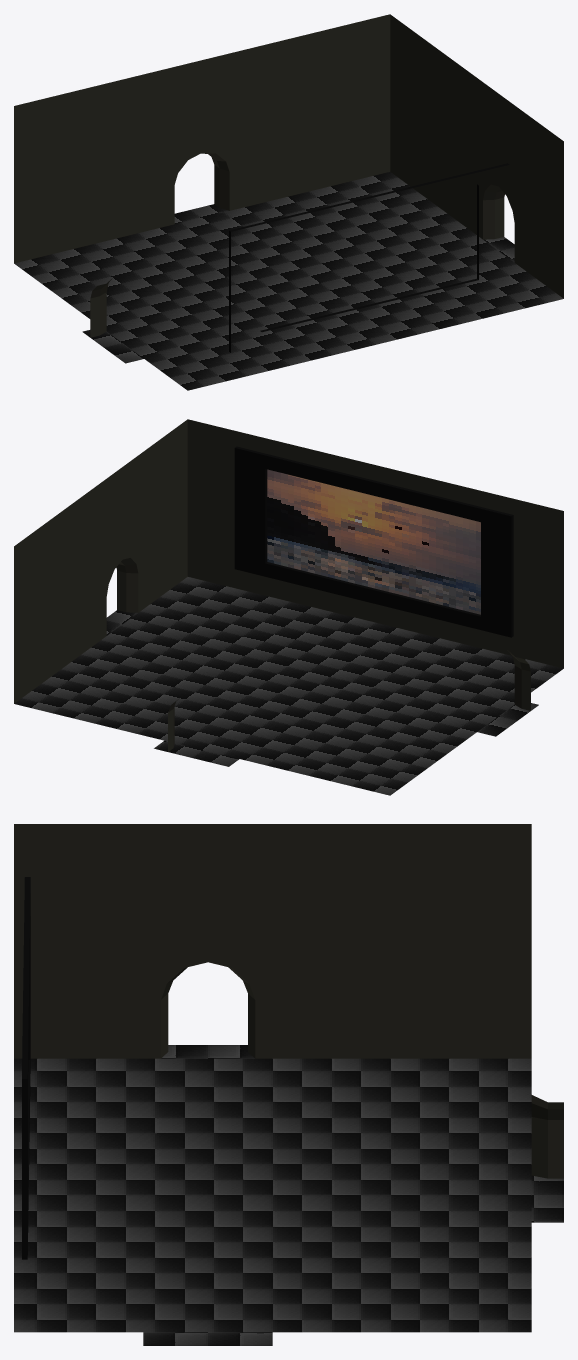
The model's file is Room5.glb.
3 renders of one model, top to bottom at view 1: azimuth 30°, elevation 25°; view 2: azimuth 150°, elevation 25°; view 3: azimuth 270°, elevation 25°, orthographic. The views are drawn at different scales.
Parts seen in each view (by area): view 1: Floor, Wall4, Wall2, Frame.003, Wall3; view 2: Floor, Wall2, Wall1, Canvas, Frame.003, Wall3; view 3: Floor, Wall3, Frame.003, Wall4.
Part boxes in pixels (<box>): Floor: <box>14,172,563,390</box>; Wall4: <box>14,14,390,263</box>; Wall2: <box>390,14,563,298</box>; Frame.003: <box>229,163,509,352</box>; Wall3: <box>90,277,113,337</box>; Floor: <box>14,577,563,795</box>; Wall2: <box>14,419,187,703</box>; Wall1: <box>187,419,563,668</box>; Canvas: <box>267,469,480,614</box>; Frame.003: <box>234,446,513,637</box>; Wall3: <box>507,650,530,710</box>; Floor: <box>14,1045,563,1345</box>; Wall3: <box>14,824,531,1058</box>; Frame.003: <box>22,877,30,1259</box>; Wall4: <box>531,1095,563,1178</box>.
Bounding box in the file's own units: 11 × 4 × 8.5.
7 materials, 2 textured.
